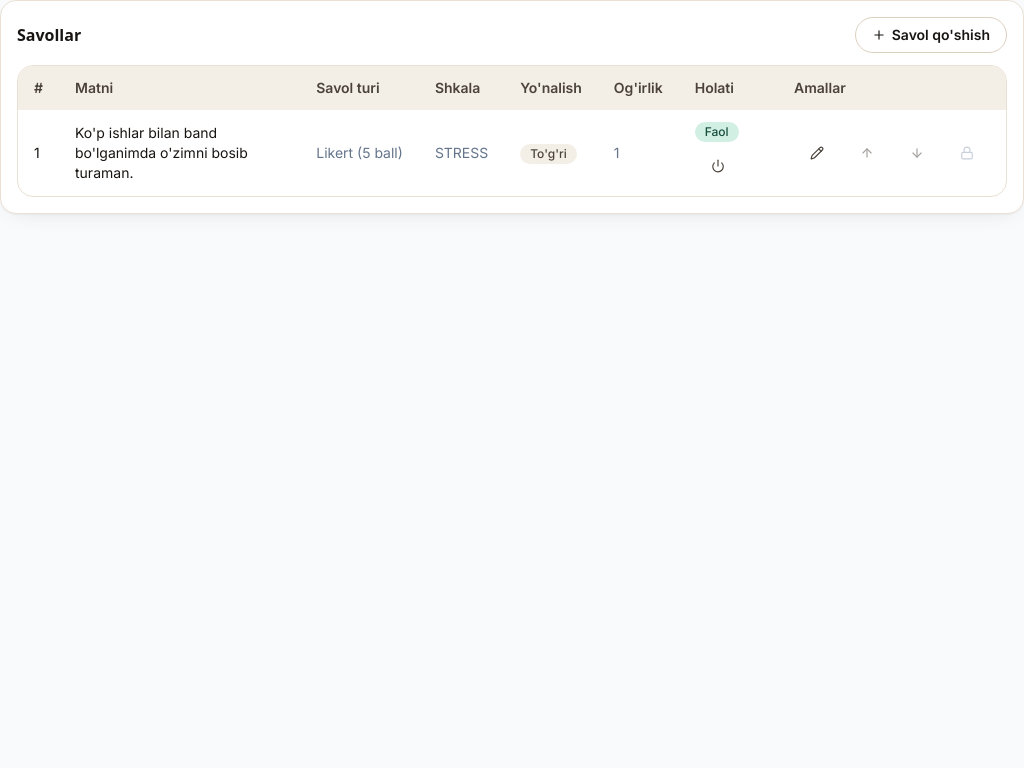
Test: QuestionsSection › qatordagi tezkor almashtirgich savolni "Faol emas" qiladi (PUT so'rovi isActive: false bilan)
expect the text "Ko'p ishlar bilan band bo'lganimda o'zimni bosib turaman." is shown: met, box [59,110,300,196]
Click the button named "ST-Q01 savolini faollikni almashtirish". click: (718, 166)
box: [695,148,741,184]
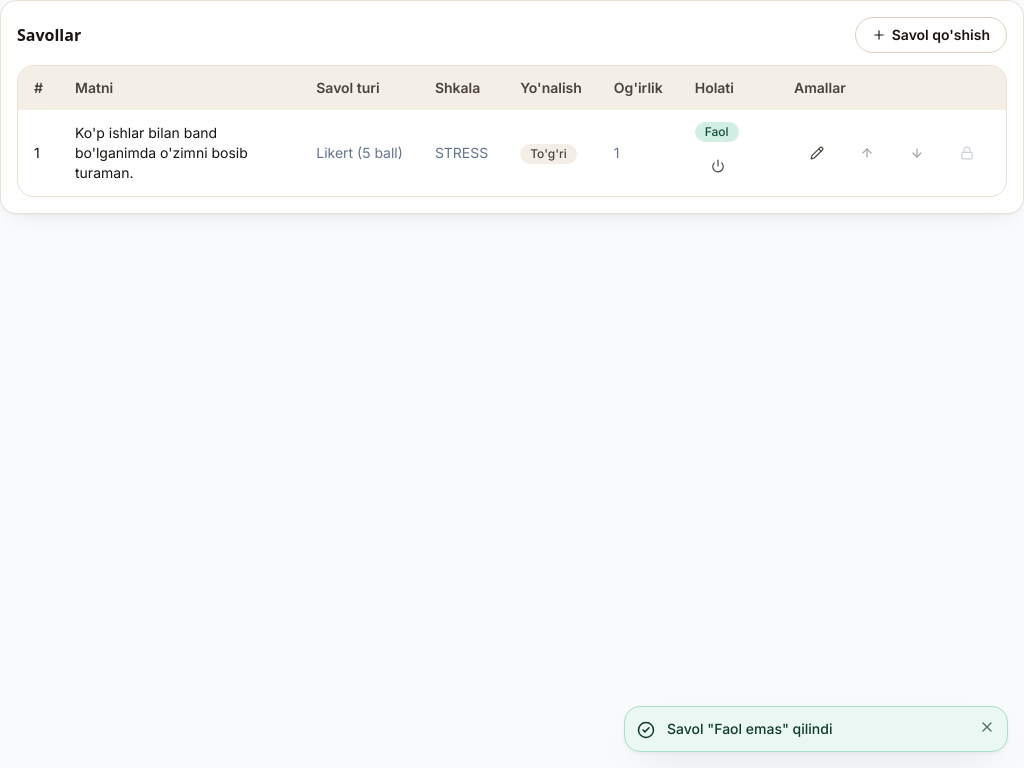
expect the text "Savol \"Faol emas\" qilindi" is shown: met, box [667,720,832,737]
